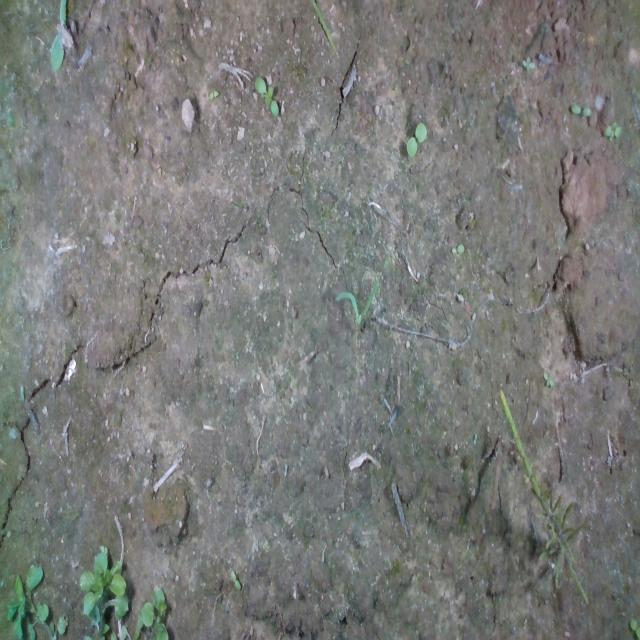weed: (252, 75, 279, 116), (405, 120, 427, 156), (603, 119, 622, 141), (570, 102, 592, 115), (521, 54, 535, 73)
